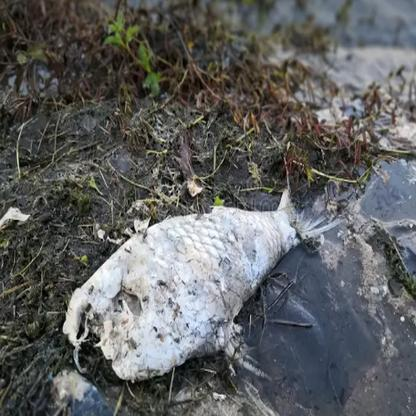deceased fish: (48, 180, 346, 382)
